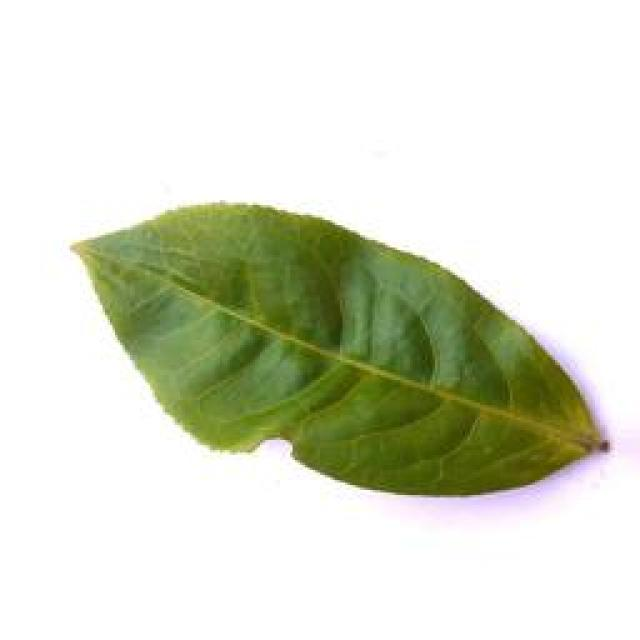Healthy: (60, 189, 618, 510)
